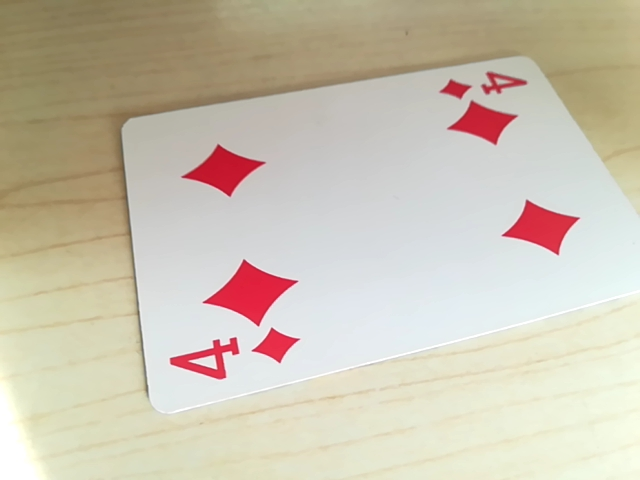fk 4: (169, 325, 296, 393), (437, 66, 533, 104)
